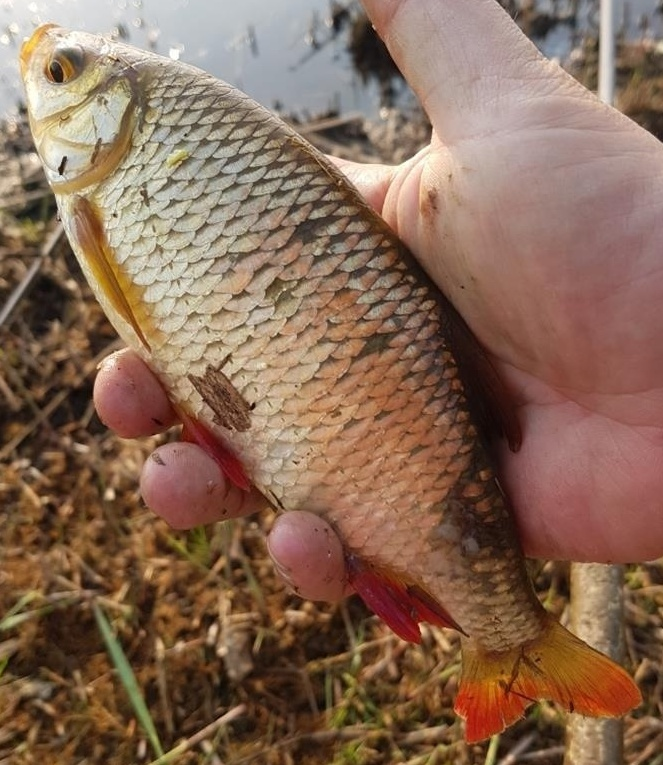Scardinius erythrophthalmus: (20, 20, 643, 745)
